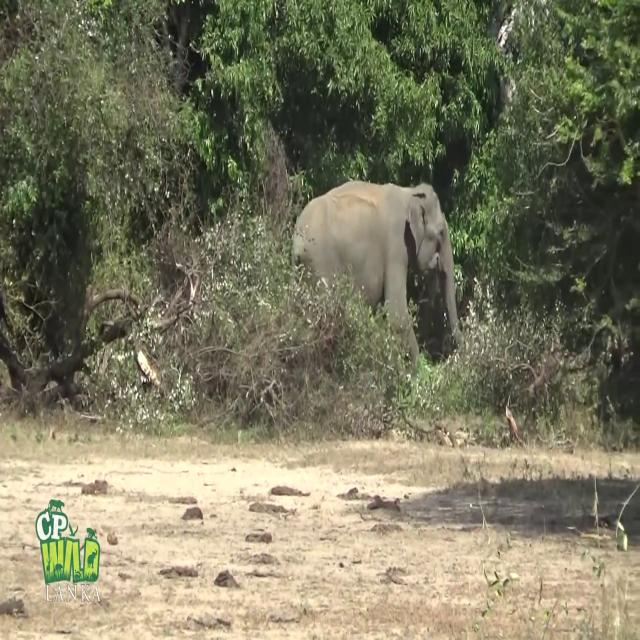Elephant: (291, 178, 463, 376)
